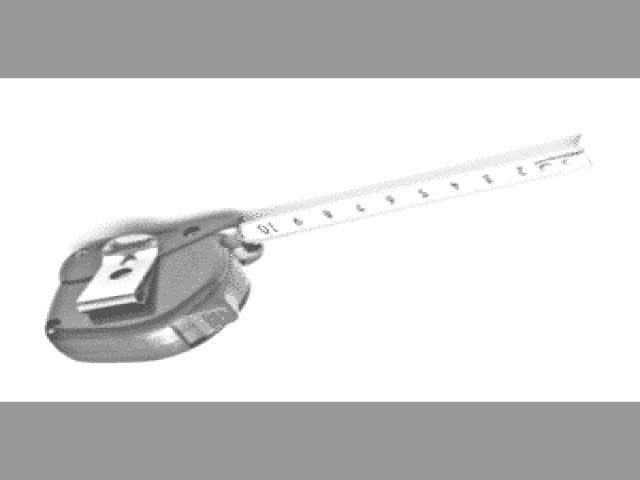Tape measure: (45, 139, 594, 363)
